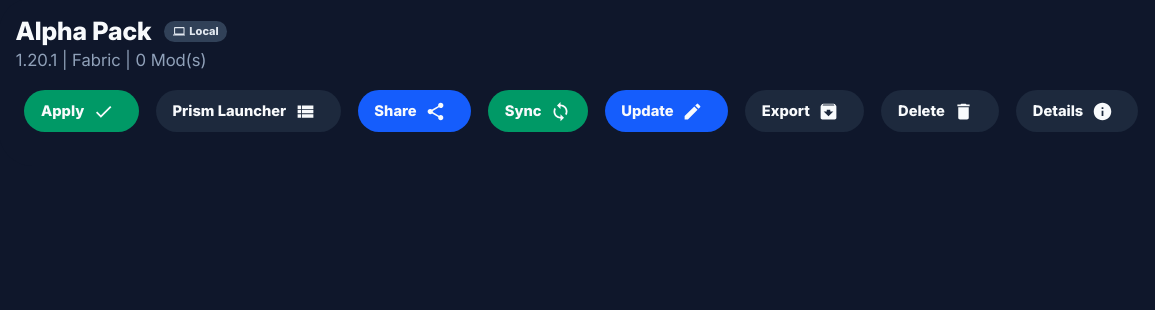
Scenario: LocalModpackCard Prism Launcher menu › lists every instance with its version and loader
The width and height of the screenshot is (1155, 310).
Click the button "Prism Launcher" at (248,111), box [156,90,341,132]
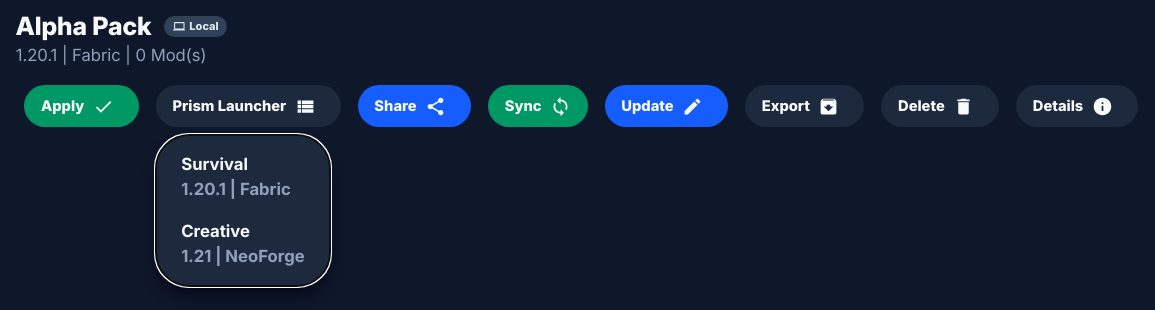
Now the menu item "Survival 1.20.1 | Fabric" is shown, box [164,143,321,211]
Now the menu item "Creative 1.21 | NeoForge" is shown, box [164,210,321,278]
